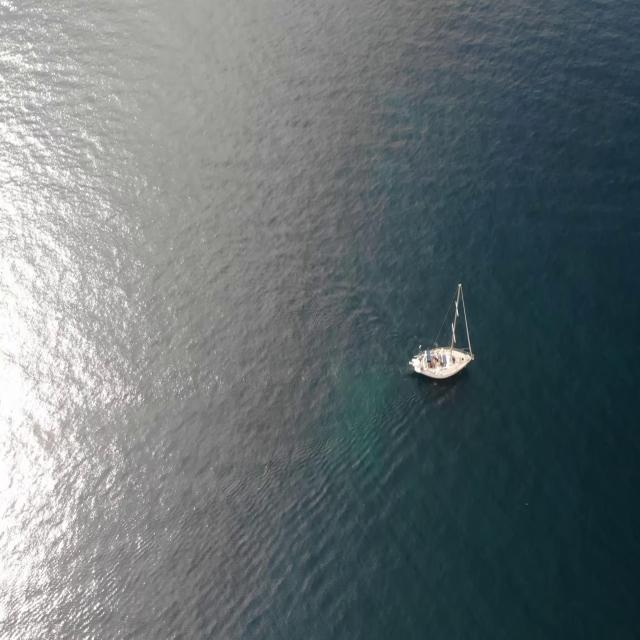sailboat: (406, 278, 476, 382)
